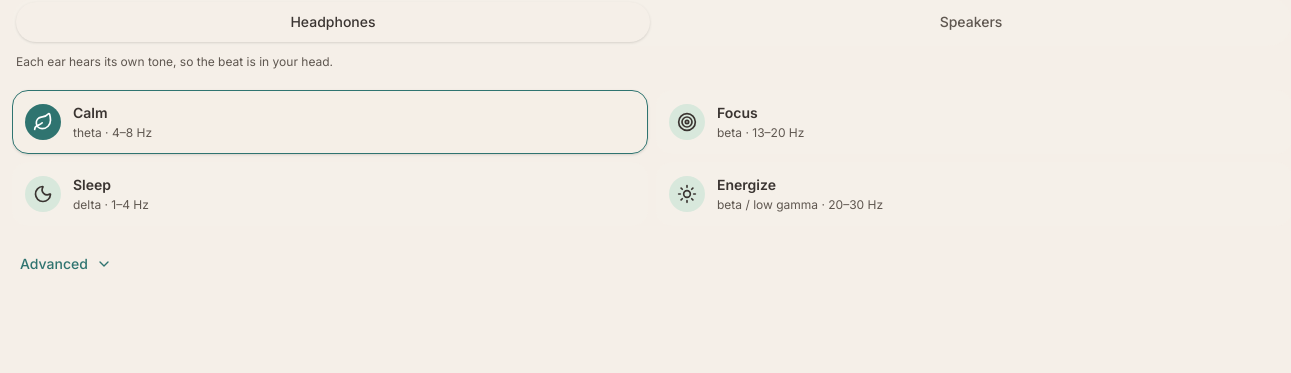
Test: BreathAudioFields › should show the Hz fields when Advanced is pressed
The width and height of the screenshot is (1291, 373).
Click the button "Advanced" at (66, 264), box [12, 246, 120, 282]
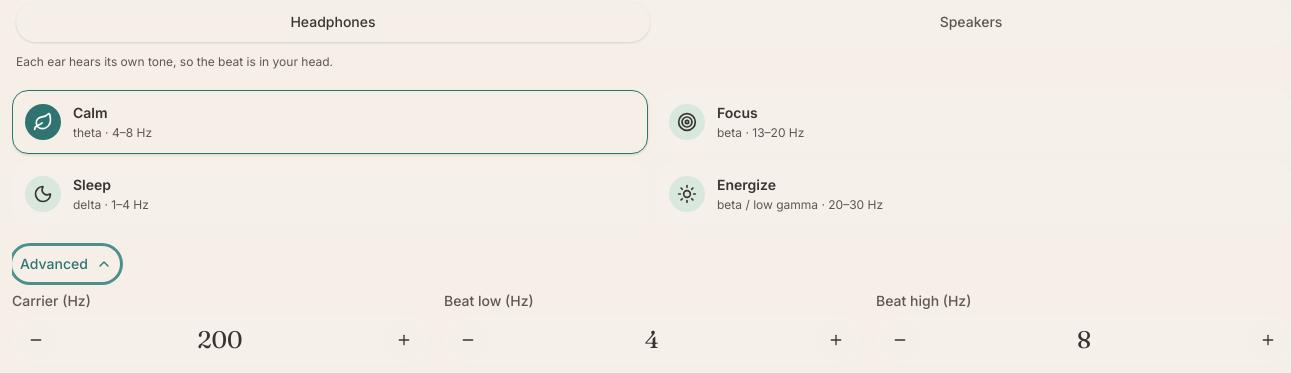
Check: the number field labelled "Carrier (Hz)" is shown, box [193, 324, 247, 356]
